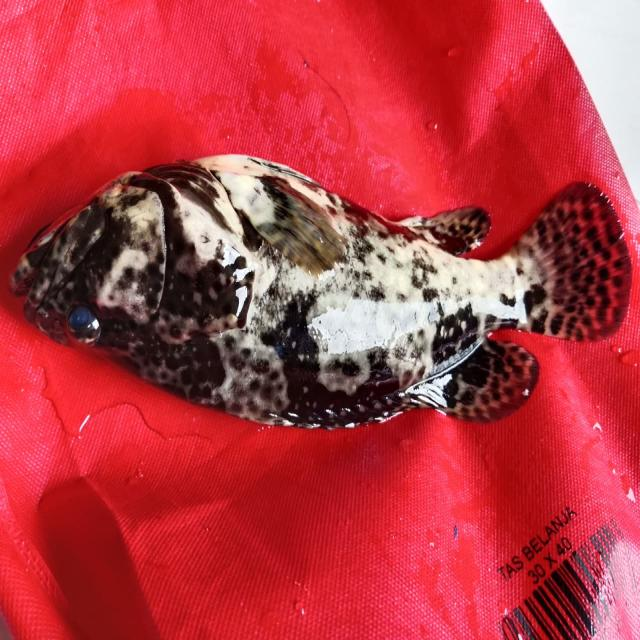ikan: (7, 137, 628, 432)
